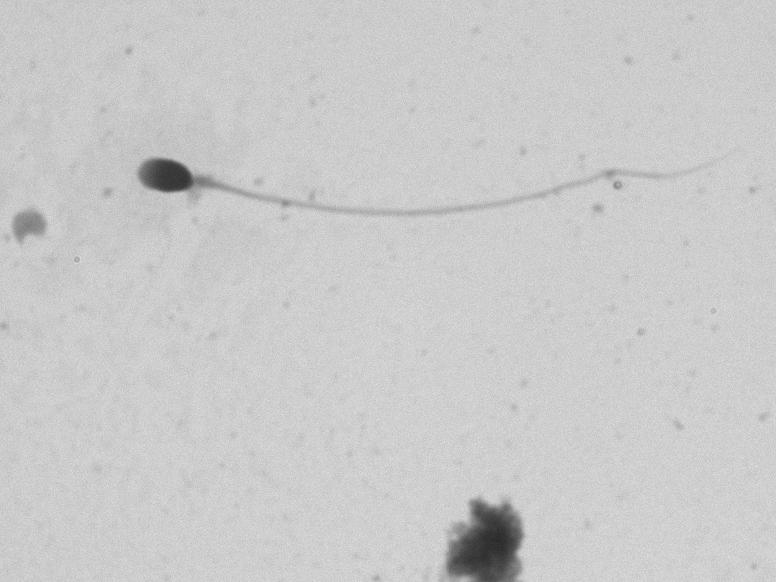Normal: (115, 80, 754, 248)
